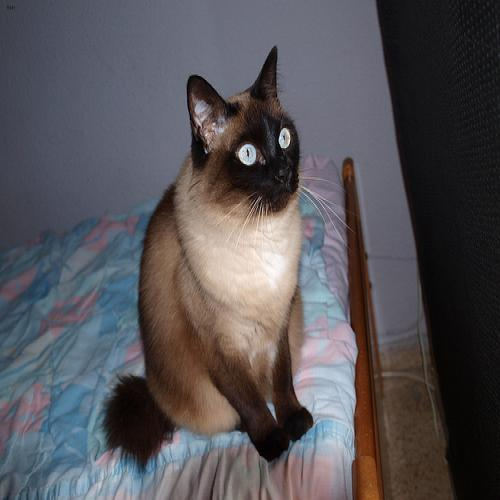siamese: (179, 38, 322, 237)
